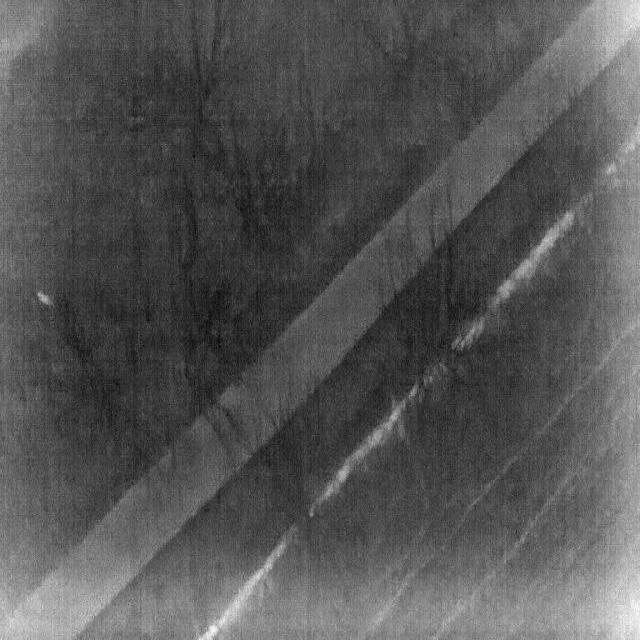deer: (36, 290, 55, 308)
